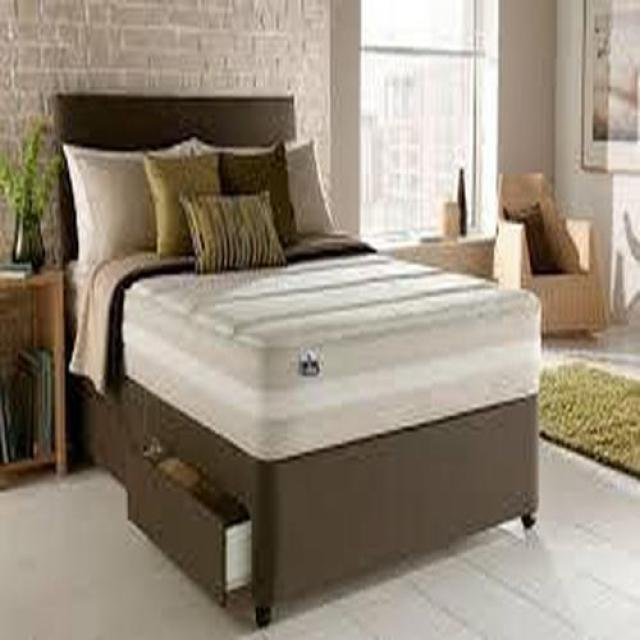bed: (55, 95, 544, 630)
